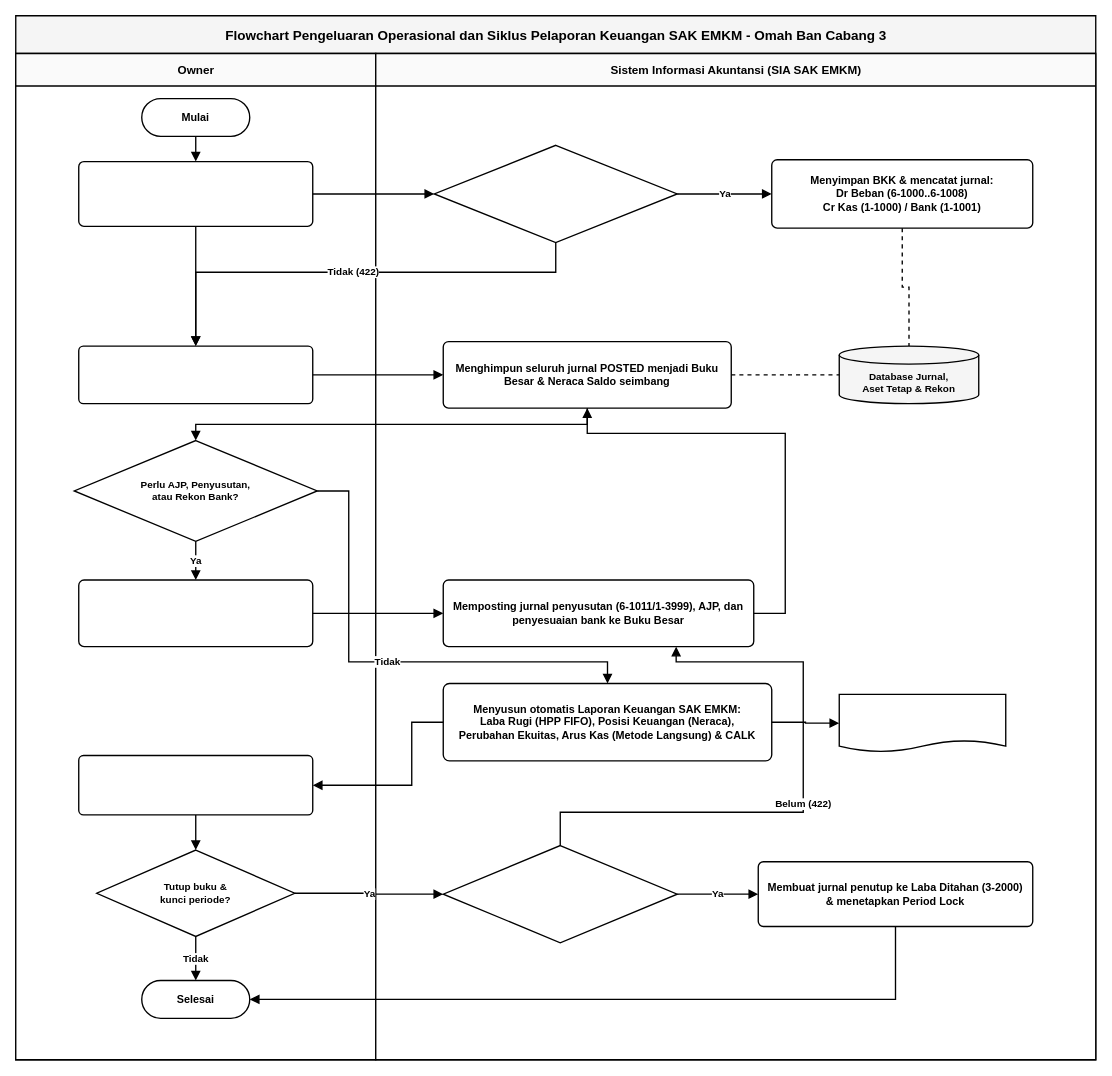
Image size: 1112x1076. Some labels were removed from this diagram. Here are the shapes that lost their labels. From the top down, the box of each, then its label:
(78, 160, 313, 227): Menginput pengeluaran biaya toko (kategori, nominal, sumber kas/bank, bukti)
(433, 144, 678, 243): Saldo Kas/Bank cukup & periode terbuka?
(78, 345, 313, 404): Memilih periode laporan keuangan (bulan)
(78, 579, 313, 647): Menjalankan penyusutan aset tetap, AJP akrual/prabayar, atau rekonsiliasi bank
(838, 693, 1006, 752): Paket Laporan Keuangan SAK EMKM
(78, 754, 313, 815): Meninjau & mengekspor laporan (PDF / Excel / DOCX)
(442, 844, 678, 943): Penyusutan aset tetap sudah dibukukan?
